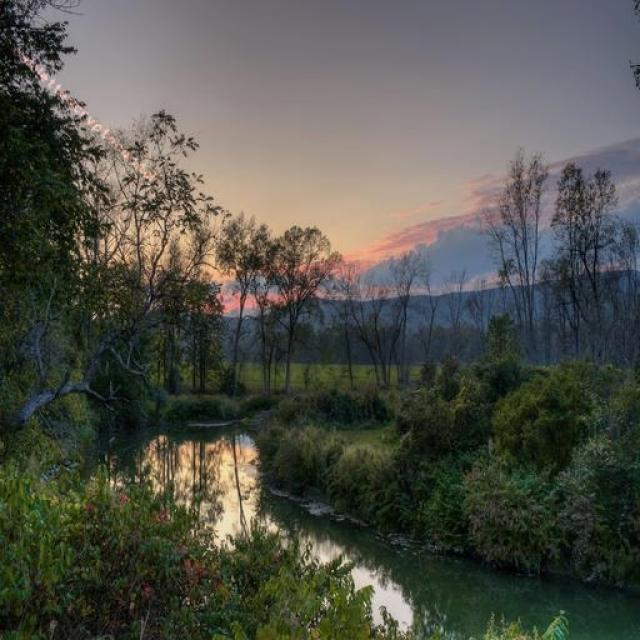watermark: (5, 40, 160, 184)
